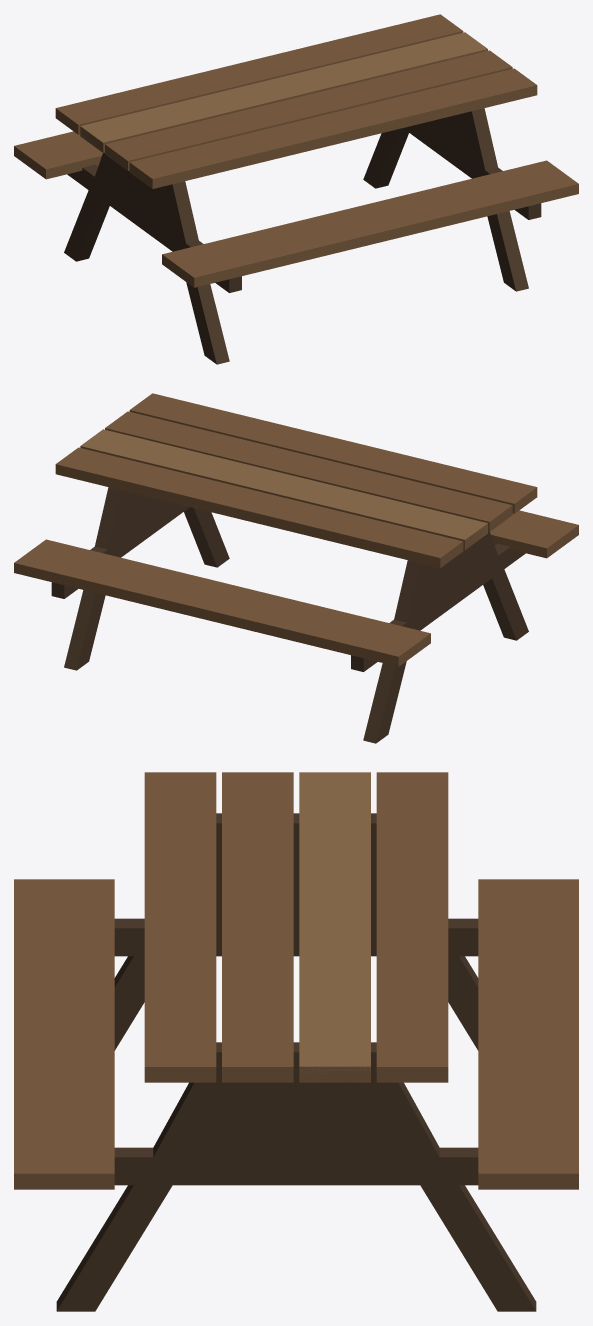
File: table_pique_nique.glb
The picture shows the model from 3 angles, top to bottom: view 1: azimuth 30°, elevation 25°; view 2: azimuth 150°, elevation 25°; view 3: azimuth 270°, elevation 25°; orthographic projection. The views are drawn at different scales.
Parts seen in each view (by area): view 1: top, bench_f, frame_l, top_mid, frame_r, bench_b; view 2: top, bench_b, frame_l, top_mid, frame_r, bench_f; view 3: top, frame_r, bench_f, bench_b, top_mid, frame_l.
Part boxes in pixels (<box>): top: <box>55,14,537,188</box>; bench_f: <box>162,160,578,287</box>; frame_l: <box>64,152,241,364</box>; top_mid: <box>80,32,487,152</box>; frame_r: <box>363,108,541,291</box>; bench_b: <box>14,131,102,179</box>; top: <box>55,393,537,567</box>; bench_b: <box>14,539,430,666</box>; frame_l: <box>351,531,528,743</box>; top_mid: <box>80,429,487,549</box>; frame_r: <box>51,487,229,670</box>; bench_f: <box>490,510,578,558</box>; top: <box>144,772,448,1082</box>; frame_r: <box>56,1042,536,1311</box>; bench_f: <box>14,879,114,1189</box>; bench_b: <box>478,879,578,1189</box>; top_mid: <box>299,772,370,1081</box>; frame_l: <box>114,813,478,1050</box>.
Bounding box in the file's own units: 1.8 × 0.778 × 1.46.
3 materials, 3 textured.
